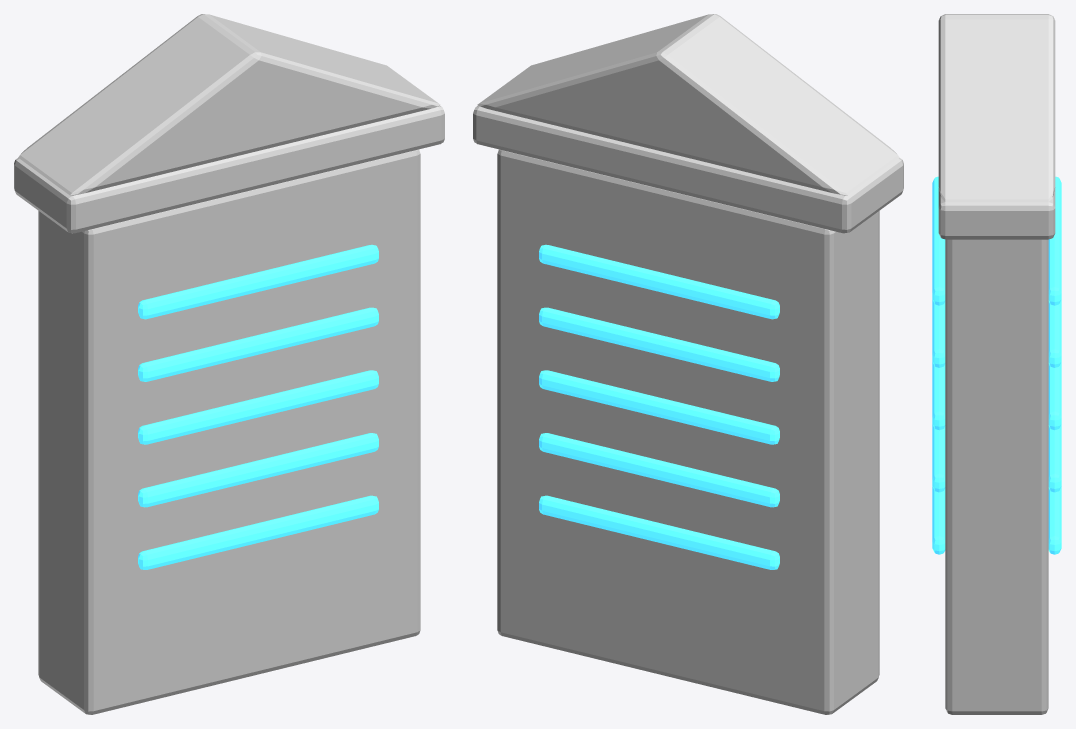
Rendered from grecia_tablet.fbx.
3 views of the same model, side by side, from view 1: azimuth 30°, elevation 25°; view 2: azimuth 150°, elevation 25°; view 3: azimuth 270°, elevation 25° (orthographic).
Parts seen in each view (by area): view 1: grecia_tablet; view 2: grecia_tablet; view 3: grecia_tablet.
Boxes of the visible parts, x1,y1,x2,y2 form: grecia_tablet: (14,14,444,714); grecia_tablet: (473,14,903,714); grecia_tablet: (932,14,1061,714).
Size of the model in its own units: 0.63 by 0.9978 by 0.188.
